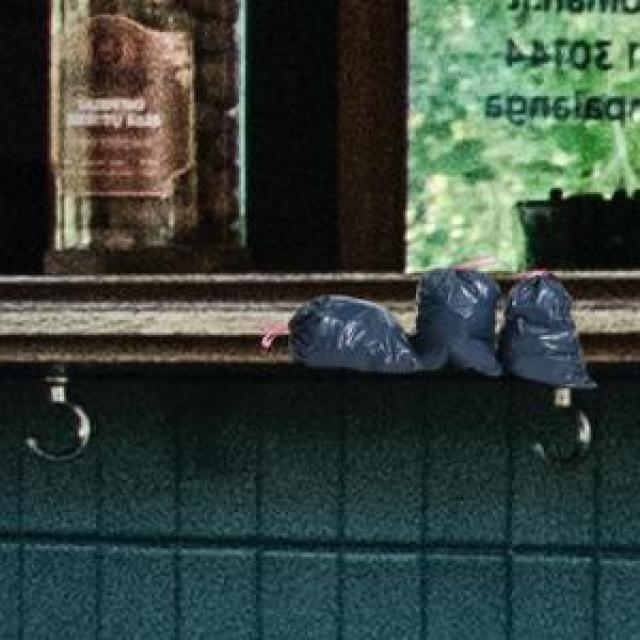waste: (289, 270, 594, 388)
